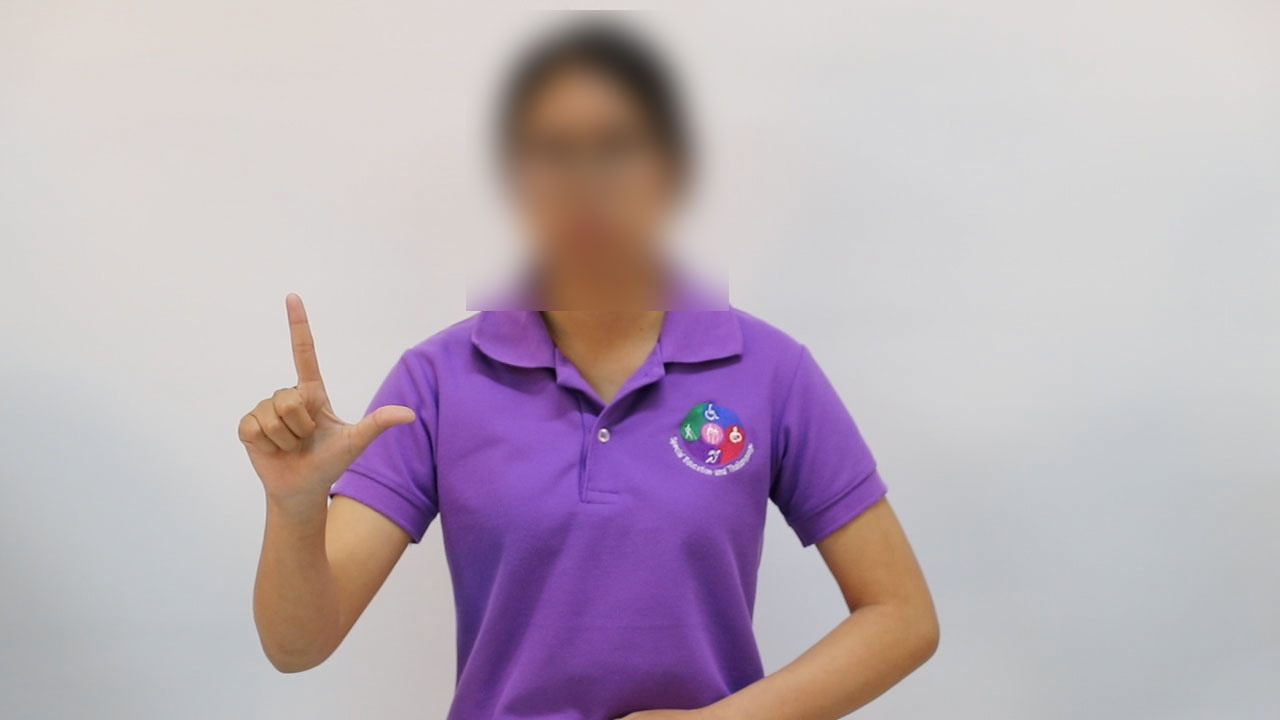lor: (219, 286, 429, 524)
